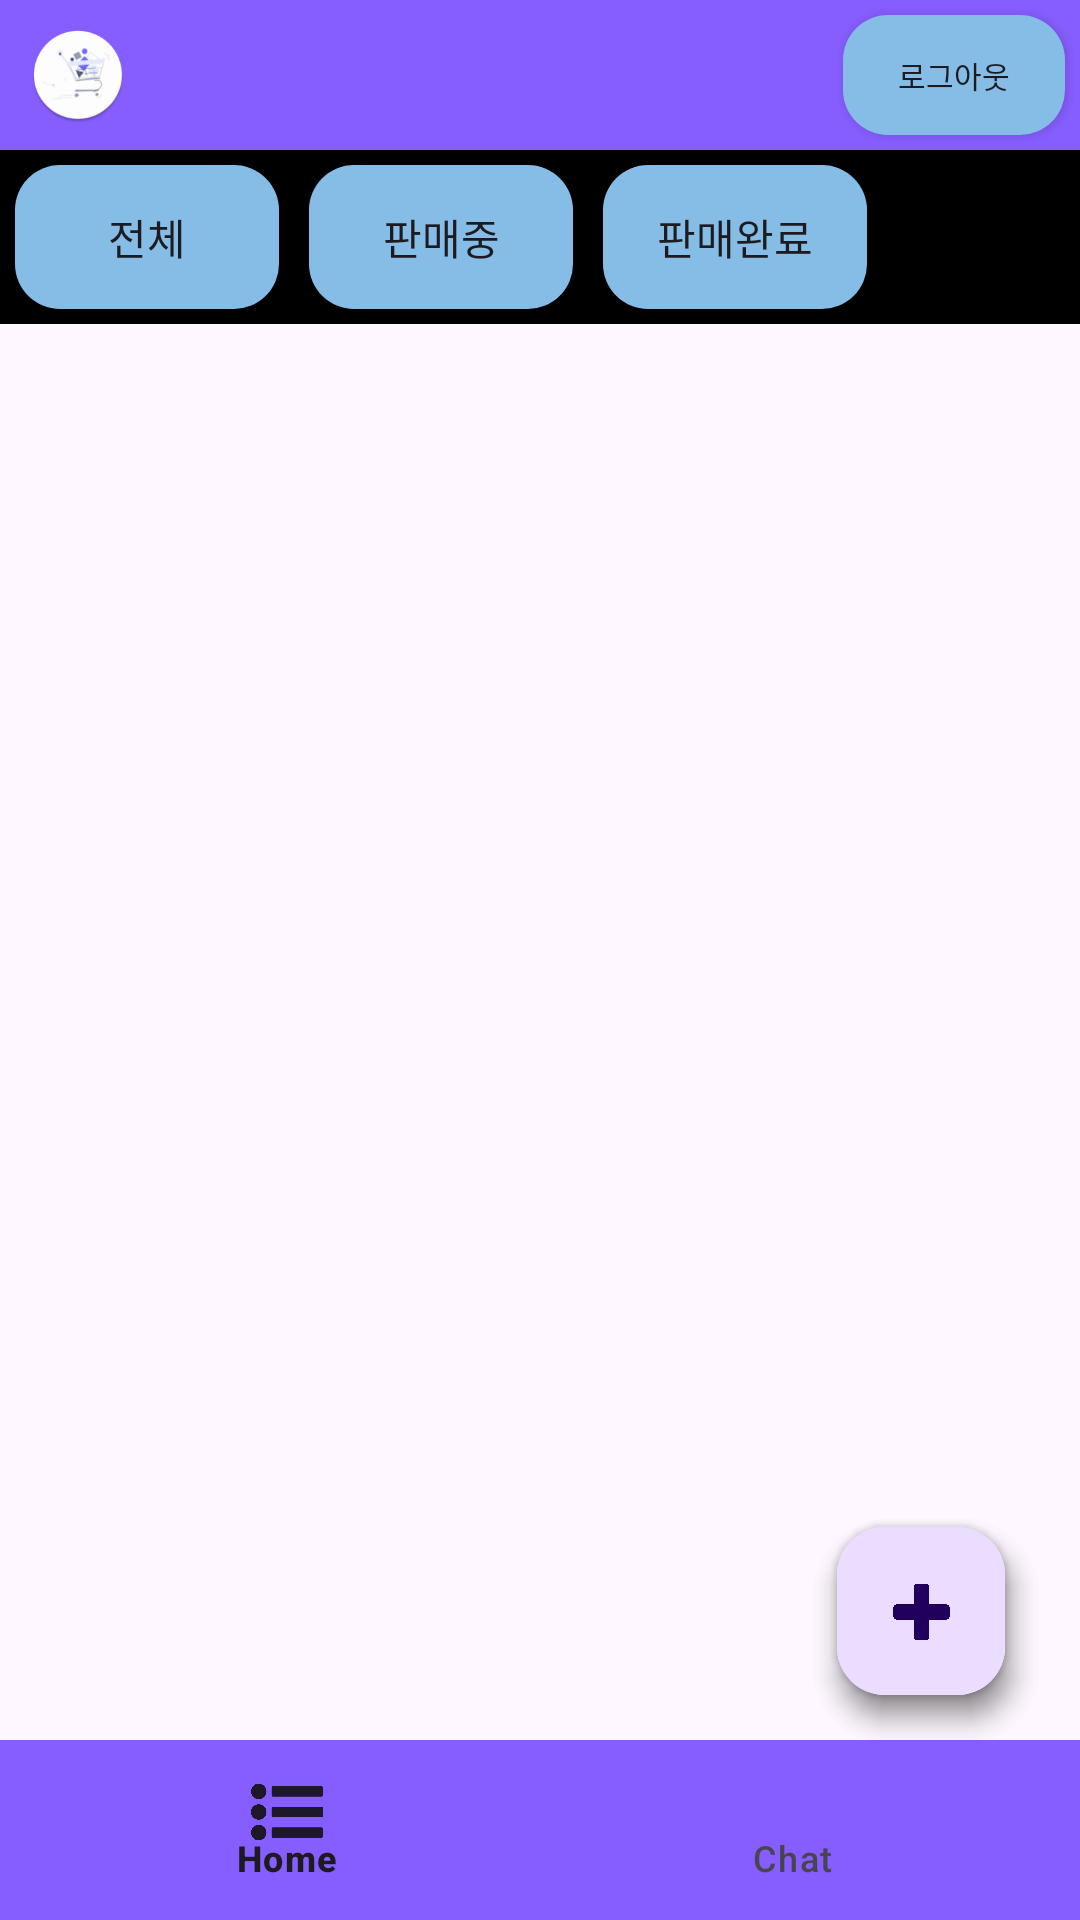

Icon click points for this 1080px x 1920px phone screenshot, format [x,y]:
plus: [921,1611]
